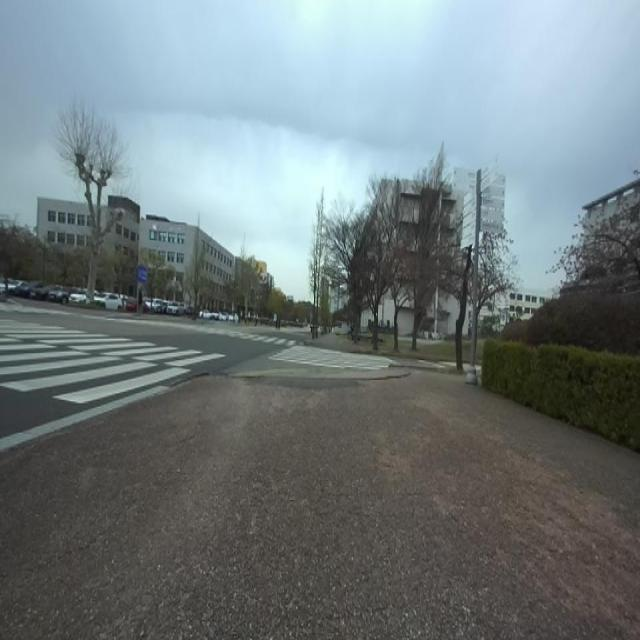sidewalk: (0, 371, 640, 639), (0, 386, 170, 451)
